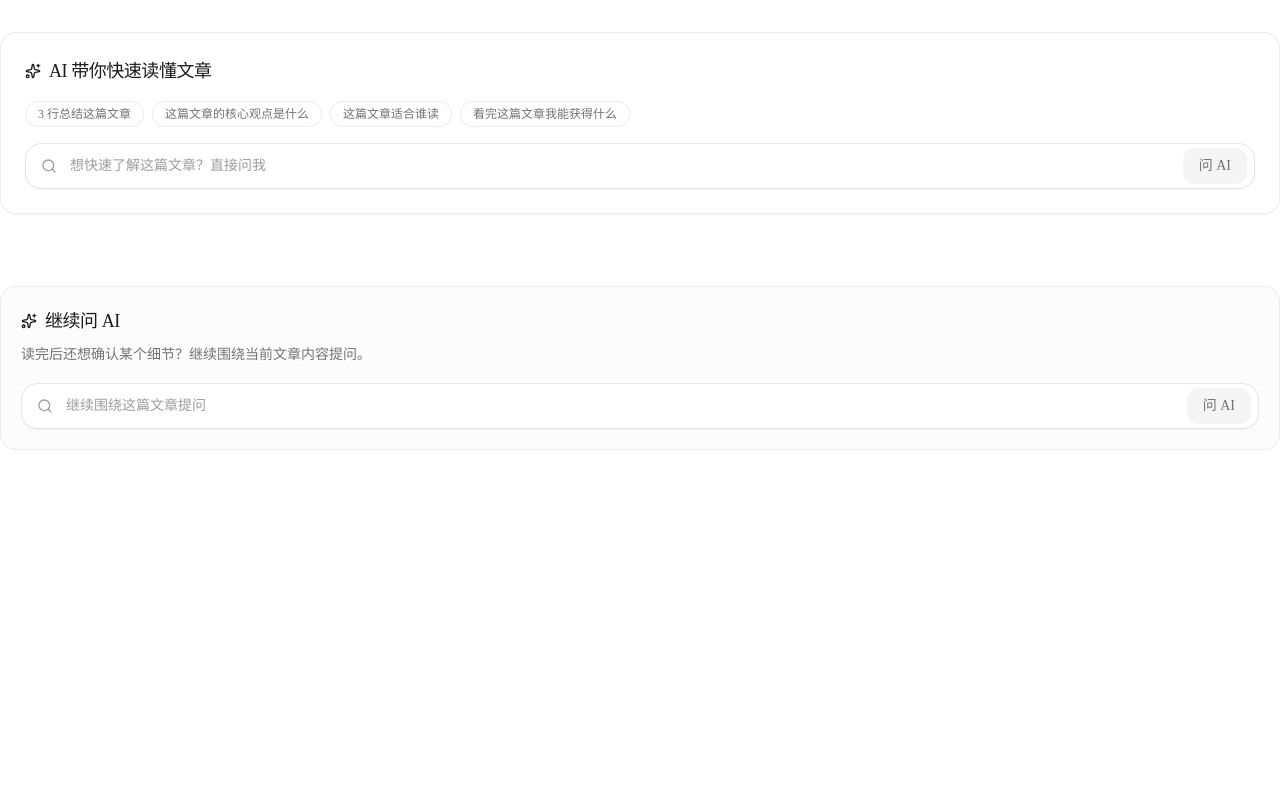
PageAIAssistantProvider › 上下两个实例使用独立 provider 时互不覆盖彼此结果
Type "底部问题" into the field with placeholder "继续围绕这篇文章提问" at (640, 406), box [21,383,1259,429]
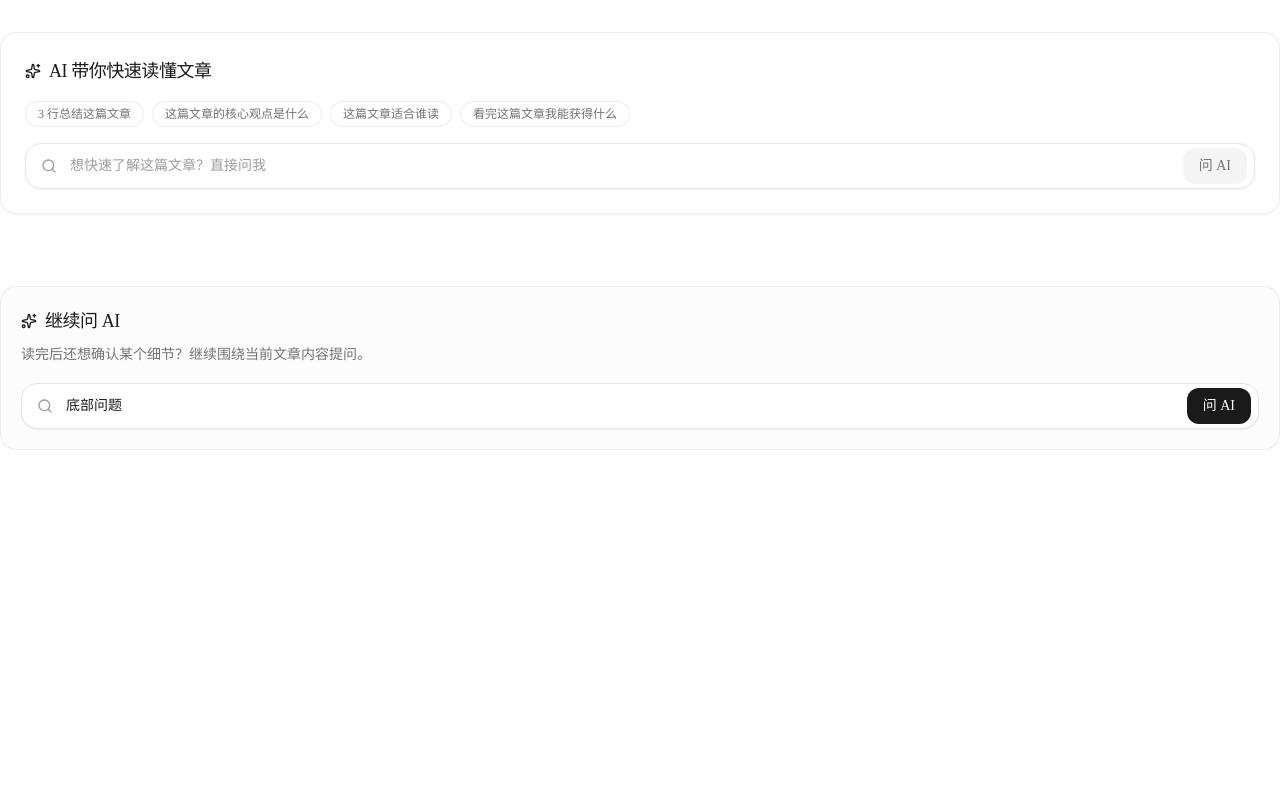
Click the 2nd button "问 AI" at (1219, 406), box [1187,388,1251,424]
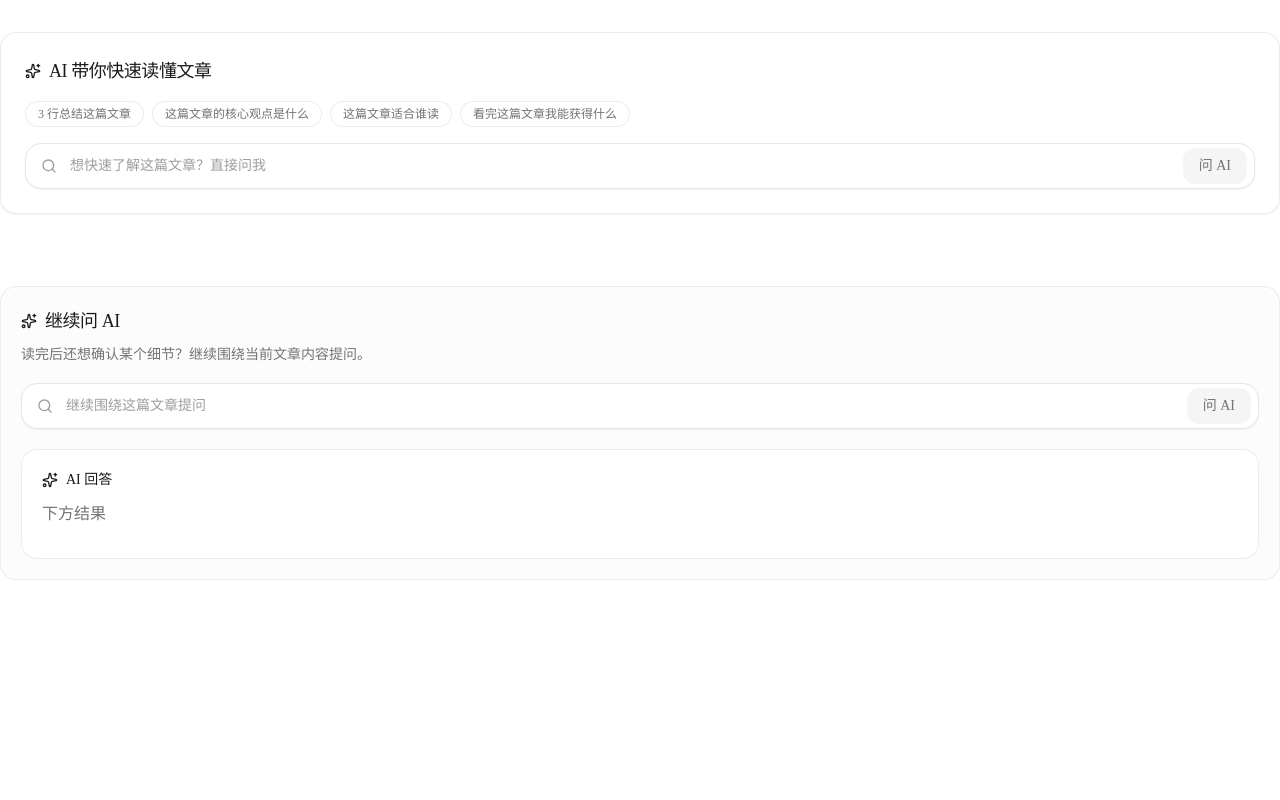
Expected: the text "上方结果" is not shown
Expected: the text "下方结果" is shown, [42,505,106,522]
Type "顶部问题" into the field with placeholder "想快速了解这篇文章？直接问我" at (640, 166), box [25,143,1255,189]
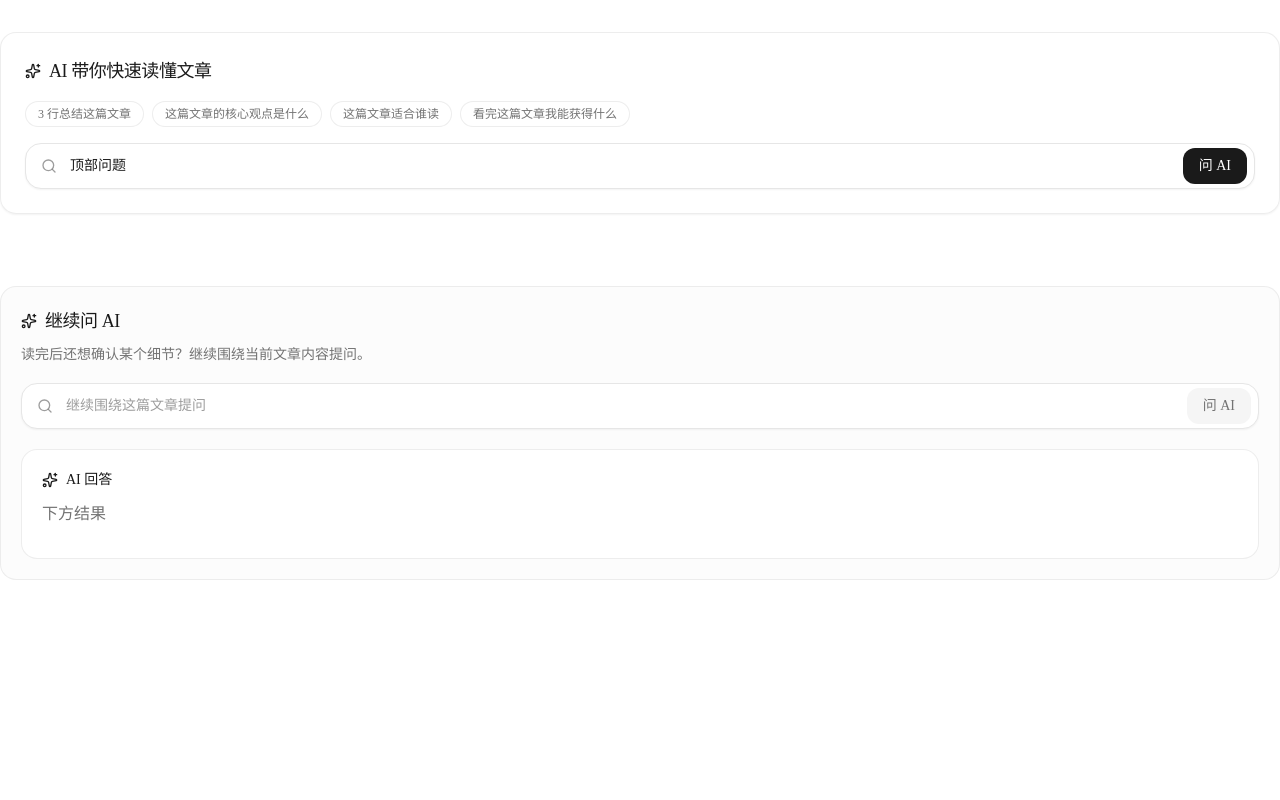
Click the 1st button "问 AI" at (1215, 166), box [1183,148,1247,184]
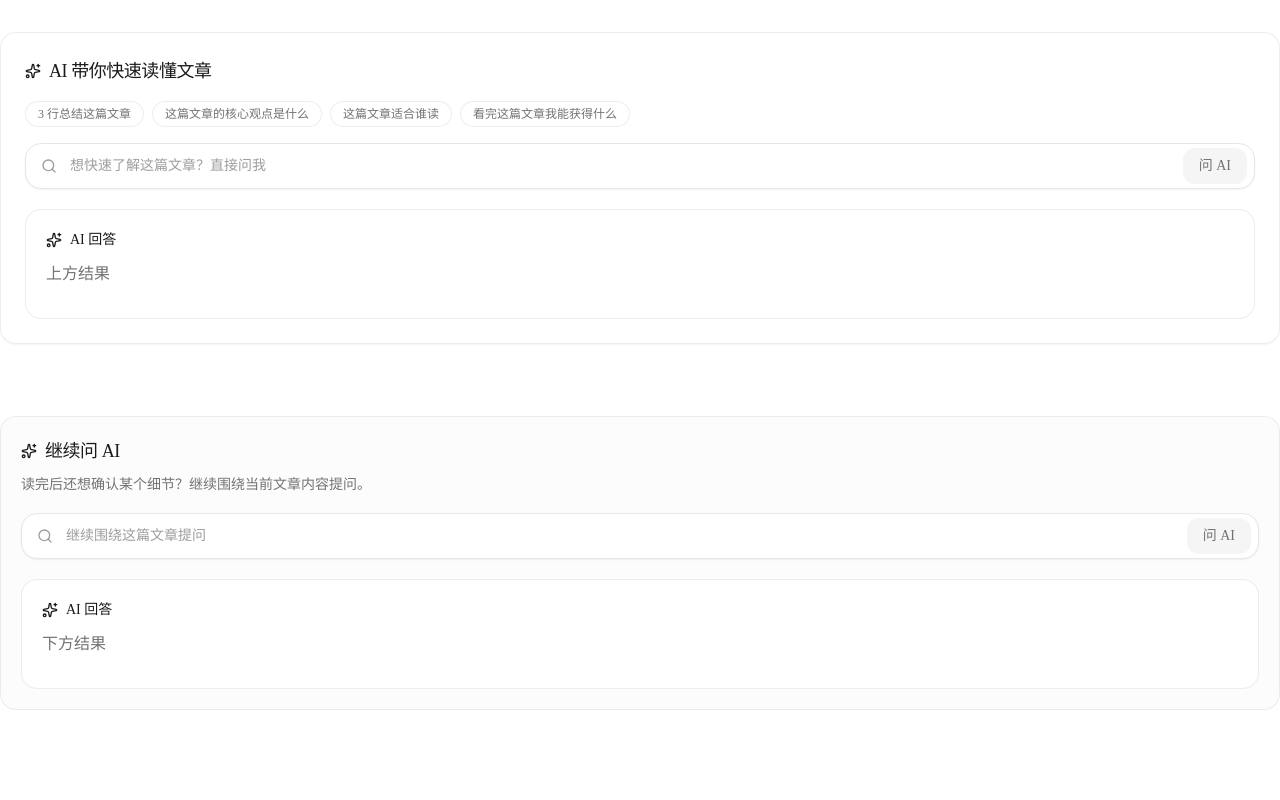
Expected: the text "下方结果" is shown, [42,635,106,652]
Expected: the text "上方结果" is shown, [46,265,110,282]
